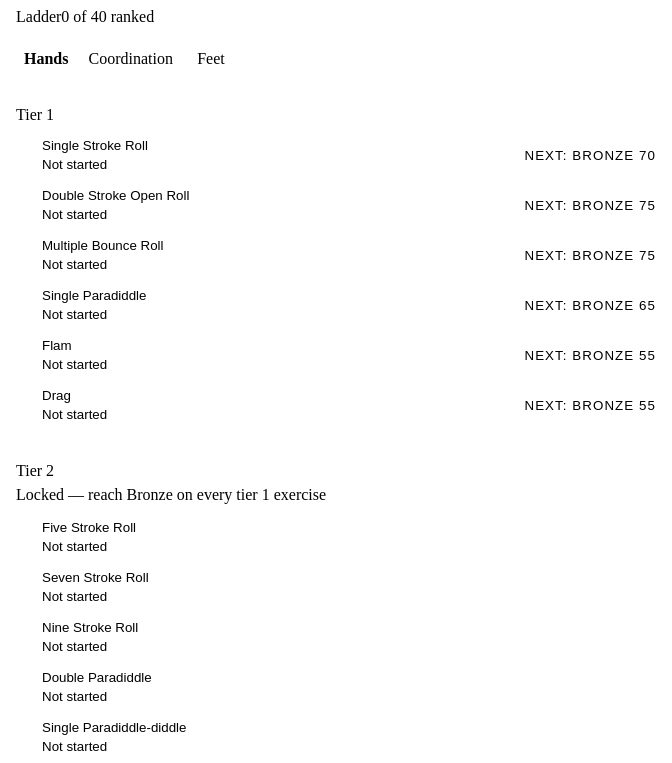
Test: LadderScreen › switches tracks
Expected: the heading "Tier 1" is shown, [16,106,54,123]
Click the radio button labelled "Coordination": [131, 58] box [88,50,173,67]
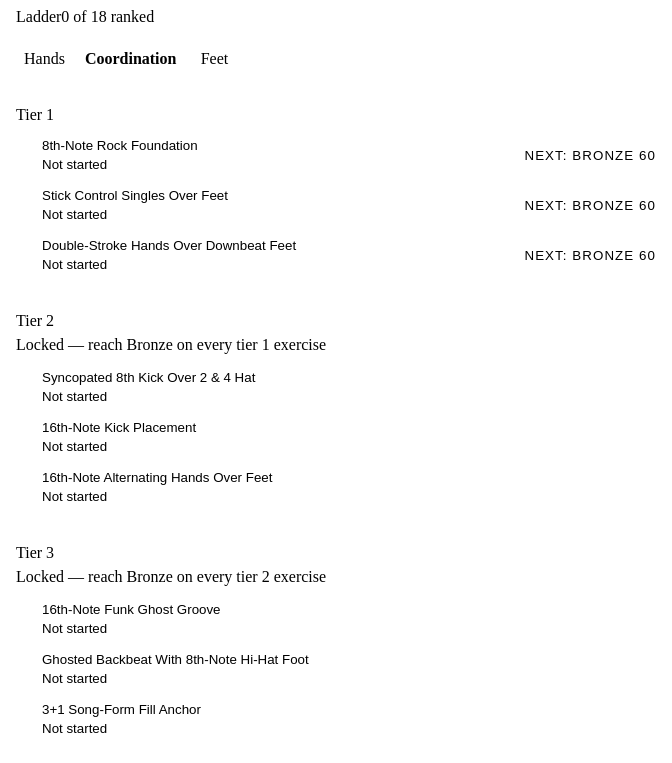
Expected: the button "Single Paradiddle" is gone
